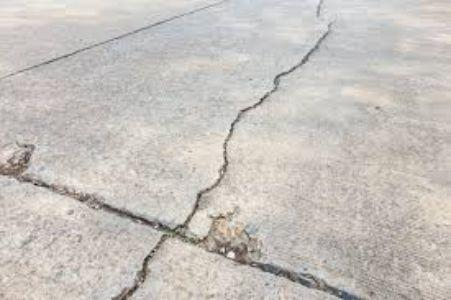crack: (194, 0, 337, 203), (2, 7, 190, 87), (44, 175, 170, 227), (270, 255, 381, 300), (106, 235, 174, 300), (176, 208, 194, 231)
pothole: (199, 208, 267, 265), (2, 141, 37, 180)
